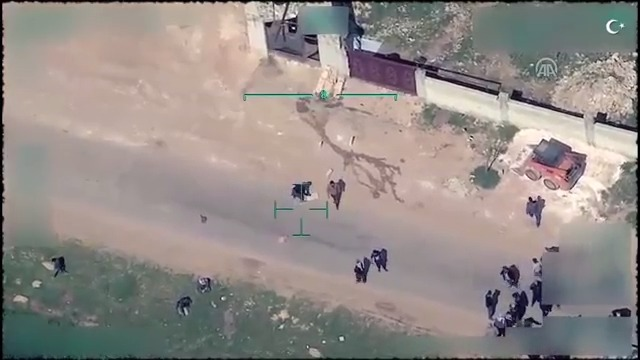insan: (497, 261, 522, 291), (323, 179, 349, 207), (525, 193, 541, 230), (368, 247, 387, 276), (480, 290, 499, 318), (353, 259, 368, 281)
